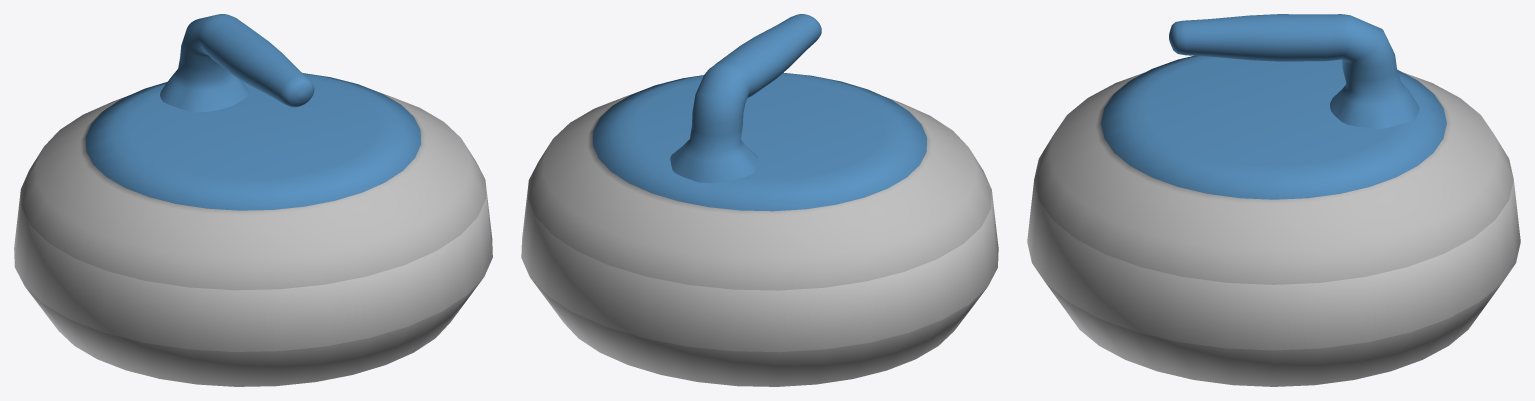
Rendered from blue_stone.dae.
The picture shows the model from 3 angles, left to right: view 1: azimuth 30°, elevation 25°; view 2: azimuth 150°, elevation 25°; view 3: azimuth 270°, elevation 25°; orthographic projection. The views are drawn at different scales.
Parts seen in each view (by area): view 1: Cylinder; view 2: Cylinder; view 3: Cylinder.
Part boxes in pixels (left/top/right/bottom): Cylinder: left=14, top=14, right=492, bottom=386; Cylinder: left=521, top=14, right=998, bottom=386; Cylinder: left=1027, top=14, right=1520, bottom=386.
Bounding box in the file's own units: 0.2812 × 0.2701 × 0.178.
